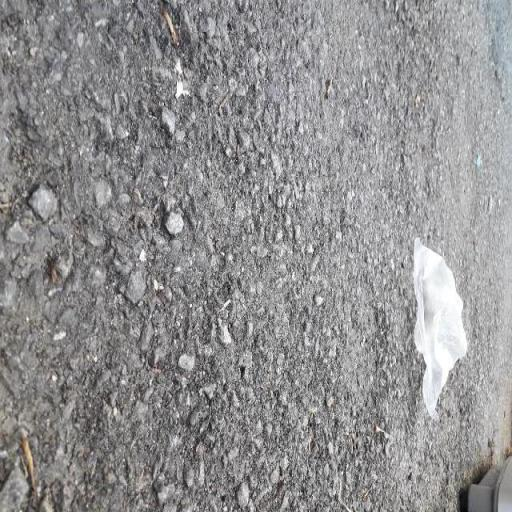plastic-bag: (411, 238, 469, 422)
